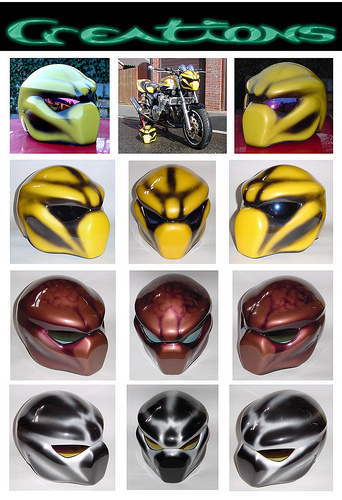helmet: (238, 168, 332, 261), (237, 280, 327, 375), (238, 395, 327, 490), (9, 285, 108, 365), (21, 166, 107, 257), (20, 394, 113, 477), (134, 397, 221, 484), (242, 70, 328, 152), (135, 281, 211, 372), (20, 72, 105, 147), (138, 170, 203, 249)
